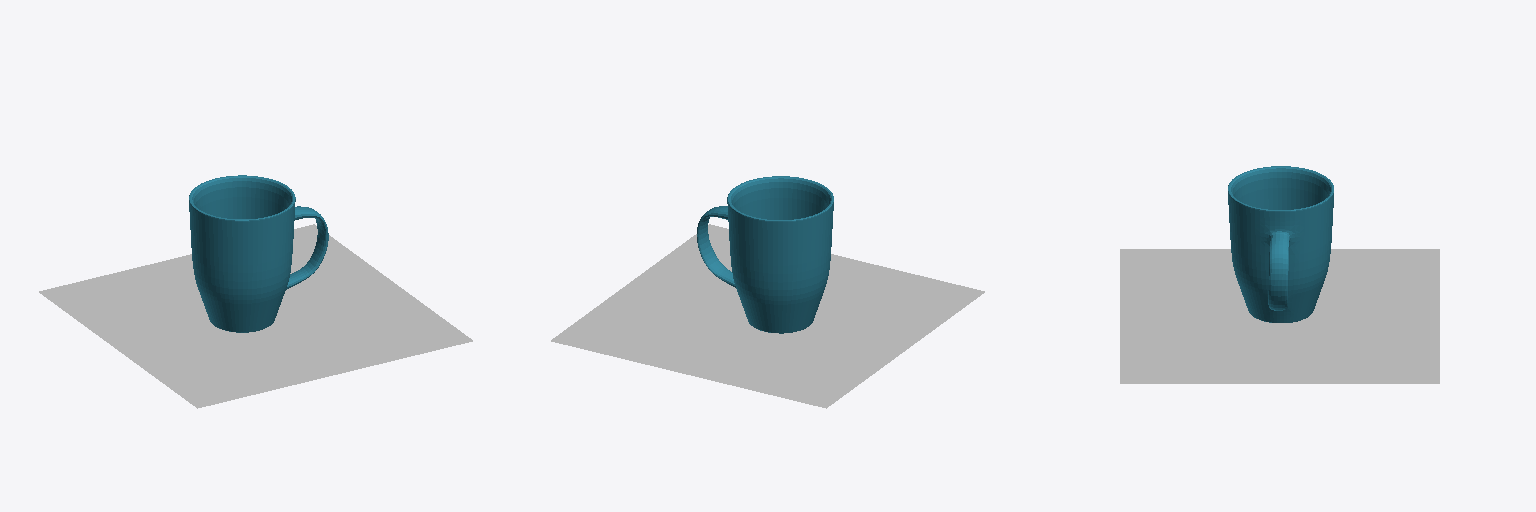
Rendered from Mug.obj.
3 views of the same model, side by side, from view 1: azimuth 30°, elevation 25°; view 2: azimuth 150°, elevation 25°; view 3: azimuth 270°, elevation 25° (orthographic).
Parts seen in each view (by area): view 1: Plane, Cylinder_Cylinder.001; view 2: Plane, Cylinder_Cylinder.001; view 3: Plane, Cylinder_Cylinder.001.
Part boxes in pixels (left/top/right/bottom): Plane: left=39, top=224, right=472, bottom=408; Cylinder_Cylinder.001: left=189, top=175, right=328, bottom=332; Plane: left=551, top=224, right=984, bottom=408; Cylinder_Cylinder.001: left=697, top=176, right=833, bottom=333; Plane: left=1120, top=249, right=1439, bottom=383; Cylinder_Cylinder.001: left=1228, top=166, right=1333, bottom=322.
Bounding box in the file's own units: 16.19 × 6.83 × 16.19.